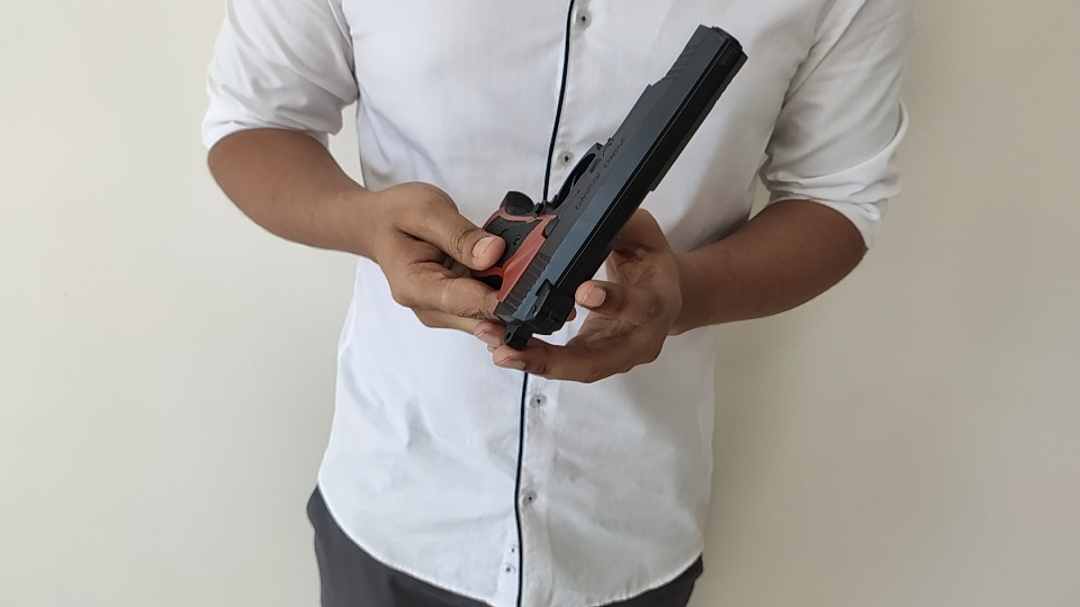gun: (307, 222, 660, 404)
